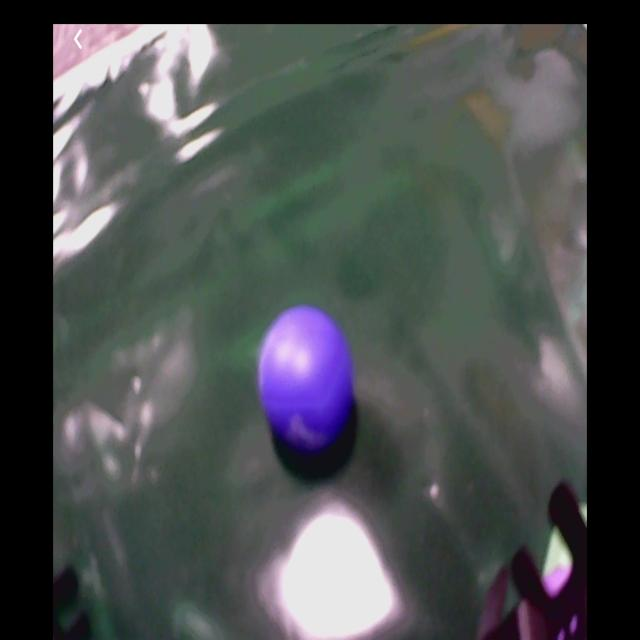ball: (260, 305, 351, 455)
